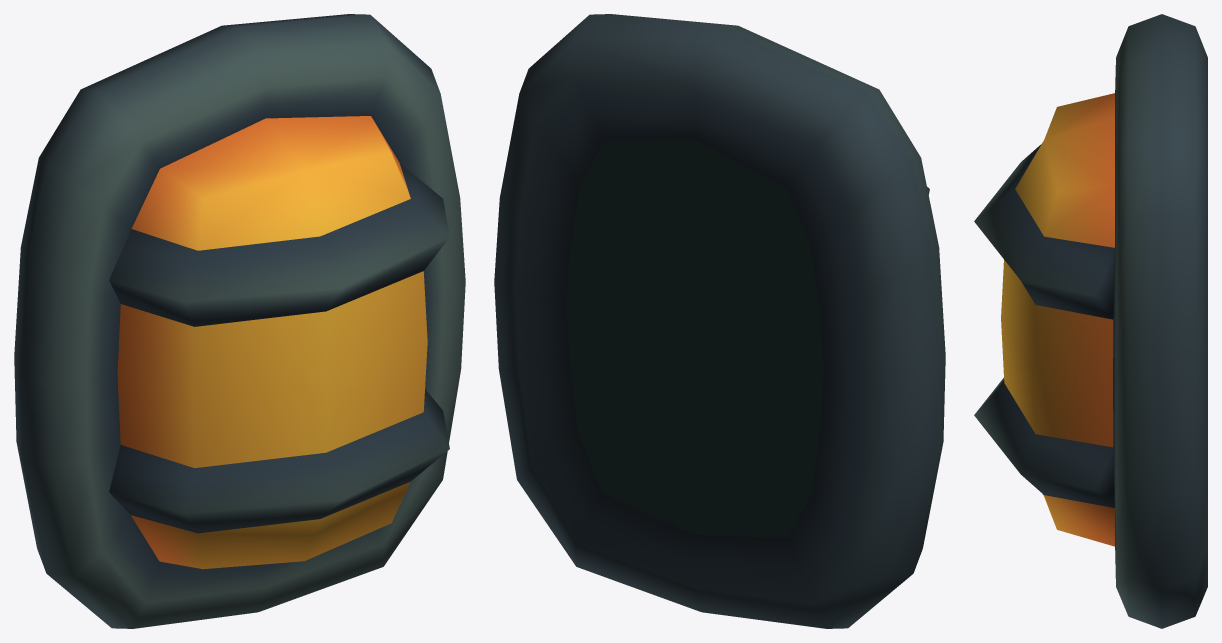
The model's file is lamp_wall1_LOD_setup.fbx.
3 views of the same model, side by side, from view 1: azimuth 30°, elevation 25°; view 2: azimuth 150°, elevation 25°; view 3: azimuth 270°, elevation 25° (orthographic). The views are drawn at different scales.
Parts seen in each view (by area): view 1: lamp_wall1_LOD0; view 2: lamp_wall1_LOD0; view 3: lamp_wall1_LOD0.
Part boxes in pixels (bbox=[...]): lamp_wall1_LOD0: bbox=[14, 14, 465, 628]; lamp_wall1_LOD0: bbox=[494, 14, 945, 628]; lamp_wall1_LOD0: bbox=[974, 14, 1207, 628].
Size of what is drawn, in the model's own units: 81.85 by 104 by 41.35.
